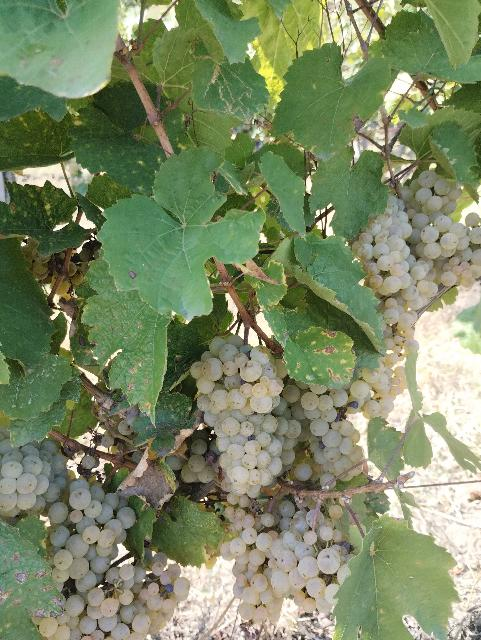grapes: (351, 171, 481, 334), (191, 335, 295, 508), (34, 552, 190, 640), (271, 505, 354, 612), (48, 479, 122, 594), (220, 508, 289, 622)
